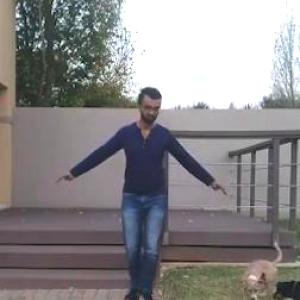land: (7, 83, 211, 299)
